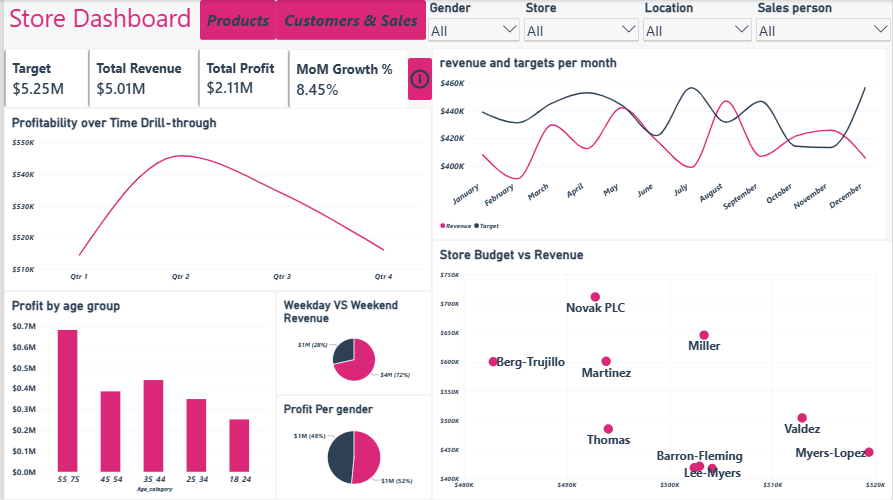

The dashboard page shown, as its layout file describes it:
{"tool":"powerbi","page":{"name":"Profit & Loss","canvas":[1920,1080],"ordinal":0},"visuals":[{"type":"textbox","box":[10.8,0,408.2,86.4],"z":0},{"type":"cardVisual","fields":{"Data":["Sum(monthly_store_targets.Monthly Target)"]},"box":[0,103.7,181.4,129.6],"z":1000},{"type":"cardVisual","fields":{"Data":["Sum(fact_table5.Revenue)"]},"box":[181.4,103.7,237.6,129.6],"z":2000},{"type":"cardVisual","fields":{"Data":["Sum(fact_table5.profit Per order)"]},"box":[419,103.7,194.4,129.6],"z":3000},{"type":"cardVisual","fields":{"Data":["fact_table5.MoM Growth %"]},"box":[613.4,105.8,259.2,129.6],"z":4000},{"type":"pieChart","title":"Profit Per gender","fields":{"Category":["fact_table5.Gender"],"Y":["Sum(fact_table5.profit Per order)"]},"box":[587.5,853.2,337,226.8],"z":5000},{"type":"pieChart","title":"Weekday VS Weekend Revenue ","fields":{"Category":["fact_table5.Weekday_Category"],"Y":["Sum(fact_table5.Revenue)"]},"box":[587.5,628.6,337,224.6],"z":6000},{"type":"lineChart","title":"Profitability over Time Drill-through","fields":{"Category":["fact_table5.Clean Order Date.Variation.Date Hierarchy.Year","fact_table5.Clean Order Date.Variation.Date Hierarchy.Quarter","fact_table5.Clean Order Date.Variation.Date Hierarchy.Month","fact_table5.Clean Order Date.Variation.Date Hierarchy.Day"],"Y":["Sum(fact_table5.profit Per order)"]},"box":[0,233.3,924.5,395.3],"z":7000},{"type":"scatterChart","title":"Store Budget vs Revenue","fields":{"Series":["fact_table5.Store"],"X":["fact_table5.Revenue"],"Y":["monthly_store_targets.Monthly Target"]},"box":[924.5,518.4,995.8,561.6],"z":8000},{"type":"lineChart","title":"revenue and targets per month","fields":{"Category":["fact_table5.Clean Order Date.Variation.Date Hierarchy.Month"],"Y":["Sum(fact_table5.Revenue)","Sum(monthly_store_targets.Monthly Target)"]},"box":[924.5,103.7,982.8,414.7],"z":9000},{"type":"columnChart","title":"Profit by age group","fields":{"Category":["fact_table5.Age_category"],"Y":["Sum(fact_table5.profit Per order)"]},"box":[0,628.6,587.5,451.4],"z":10000},{"type":"slicer","fields":{"Values":["fact_table5.Gender"]},"box":[911.5,0,207.4,103.7],"z":11000},{"type":"slicer","fields":{"Values":["fact_table5.Store"]},"box":[1118.9,0,257,103.7],"z":12000},{"type":"slicer","fields":{"Values":["customers_table.Location"]},"box":[1375.9,0,244.1,103.7],"z":13000},{"type":"slicer","fields":{"Values":["sales_persons_table.Full Name"]},"box":[1620,0,300.2,103.7],"z":14000},{"type":"actionButton","box":[423.4,0,164.2,86.4],"z":15000},{"type":"actionButton","box":[587.5,0,324,86.4],"z":16000},{"type":"actionButton","box":[872.6,125.3,51.8,90.7],"z":16001}]}

Visuals, with their boxes in screenshot pixels (x1, y1, x2, y2), scaled from the page's 1920x1080 canvas onto the 893x500 screenshot:
textbox: {"x1": 5, "y1": 0, "x2": 195, "y2": 40}
cardVisual - Sum(monthly_store_targets.Monthly Target): {"x1": 0, "y1": 48, "x2": 84, "y2": 108}
cardVisual - Sum(fact_table5.Revenue): {"x1": 84, "y1": 48, "x2": 195, "y2": 108}
cardVisual - Sum(fact_table5.profit Per order): {"x1": 195, "y1": 48, "x2": 285, "y2": 108}
cardVisual - fact_table5.MoM Growth %: {"x1": 285, "y1": 49, "x2": 406, "y2": 109}
"Profit Per gender" pieChart: {"x1": 273, "y1": 395, "x2": 430, "y2": 499}
"Weekday VS Weekend Revenue " pieChart: {"x1": 273, "y1": 291, "x2": 430, "y2": 395}
"Profitability over Time Drill-through" lineChart: {"x1": 0, "y1": 108, "x2": 430, "y2": 291}
"Store Budget vs Revenue" scatterChart: {"x1": 430, "y1": 240, "x2": 892, "y2": 499}
"revenue and targets per month" lineChart: {"x1": 430, "y1": 48, "x2": 887, "y2": 240}
"Profit by age group" columnChart: {"x1": 0, "y1": 291, "x2": 273, "y2": 499}
slicer - fact_table5.Gender: {"x1": 424, "y1": 0, "x2": 520, "y2": 48}
slicer - fact_table5.Store: {"x1": 520, "y1": 0, "x2": 640, "y2": 48}
slicer - customers_table.Location: {"x1": 640, "y1": 0, "x2": 753, "y2": 48}
slicer - sales_persons_table.Full Name: {"x1": 753, "y1": 0, "x2": 892, "y2": 48}
actionButton: {"x1": 197, "y1": 0, "x2": 273, "y2": 40}
actionButton: {"x1": 273, "y1": 0, "x2": 424, "y2": 40}
actionButton: {"x1": 406, "y1": 58, "x2": 430, "y2": 100}
